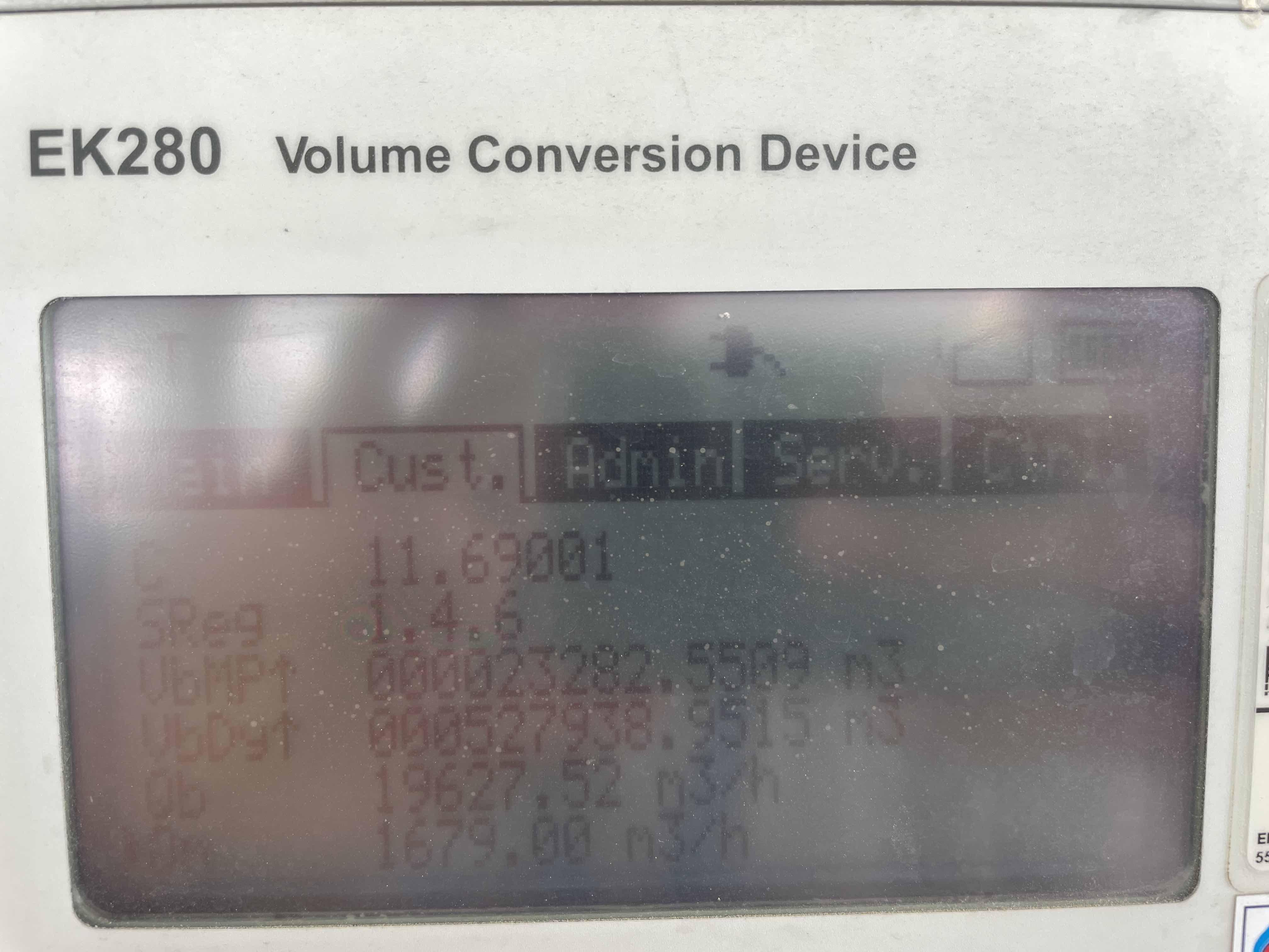digital_screen: (45, 295, 1220, 918)
